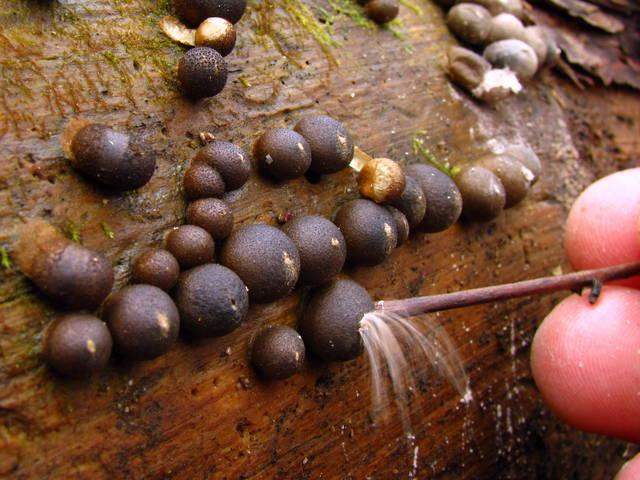Non-edible Mushroom: (12, 108, 538, 378), (546, 147, 640, 431), (421, 8, 550, 93), (10, 217, 114, 307), (220, 222, 300, 300), (66, 121, 156, 190), (103, 282, 180, 357), (41, 311, 112, 376), (293, 113, 354, 173), (252, 126, 312, 179), (249, 324, 305, 378), (175, 45, 228, 98), (357, 156, 405, 202), (193, 16, 236, 55)
